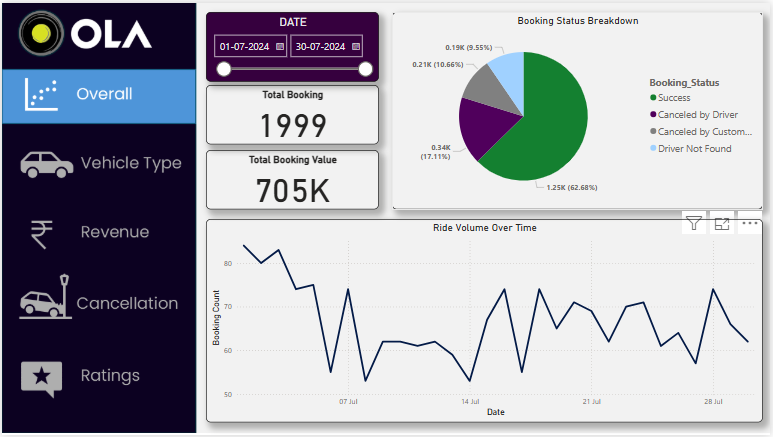

The dashboard page shown, as its layout file describes it:
{"tool":"powerbi","page":{"name":"Overall","canvas":[1280,720],"ordinal":0},"visuals":[{"type":"actionButton","box":[0,211.2,323.1,109.1],"z":0},{"type":"actionButton","box":[0,331.7,323.1,102],"z":1000},{"type":"actionButton","box":[1.4,445,323.1,107.7],"z":2000},{"type":"actionButton","box":[1.4,569.8,323.1,104.9],"z":3000},{"type":"pieChart","title":"Booking Status Breakdown","fields":{"Category":["Bookings-20000-Rows.Booking_Status"],"Y":["CountNonNull(Bookings-20000-Rows.Booking_Status)"]},"box":[650.6,15.6,618,328.8],"z":4000},{"type":"lineChart","title":"Ride Volume Over Time","fields":{"Y":["CountNonNull(Bookings-20000-Rows.Booking_ID)"],"Category":["Bookings-20000-Rows.Date"]},"box":[340.2,360,928.3,338.7],"z":5000},{"type":"slicer","title":"DATE","fields":{"Values":["Bookings-20000-Rows.Date"]},"box":[340.2,15.6,287.7,116.2],"z":6000},{"type":"card","title":"Total  Booking","fields":{"Values":["CountNonNull(Bookings-20000-Rows.Booking_ID)"]},"box":[340.2,137.5,287.7,99.2],"z":7000},{"type":"card","title":"Total Booking Value","fields":{"Values":["Sum(Bookings-20000-Rows.Booking_Value)"]},"box":[340.2,245.2,287.7,99.2],"z":8000}]}

Visuals, with their boxes in screenshot pixels (x1, y1, x2, y2), scaled from the page's 1280x720 canvas onto the 773x437 screenshot:
actionButton: 0:128:195:194
actionButton: 0:201:195:263
actionButton: 1:270:196:335
actionButton: 1:346:196:410
"Booking Status Breakdown" pieChart: 393:9:766:209
"Ride Volume Over Time" lineChart: 205:218:766:424
"DATE" slicer: 205:9:379:80
"Total  Booking" card: 205:83:379:144
"Total Booking Value" card: 205:149:379:209
